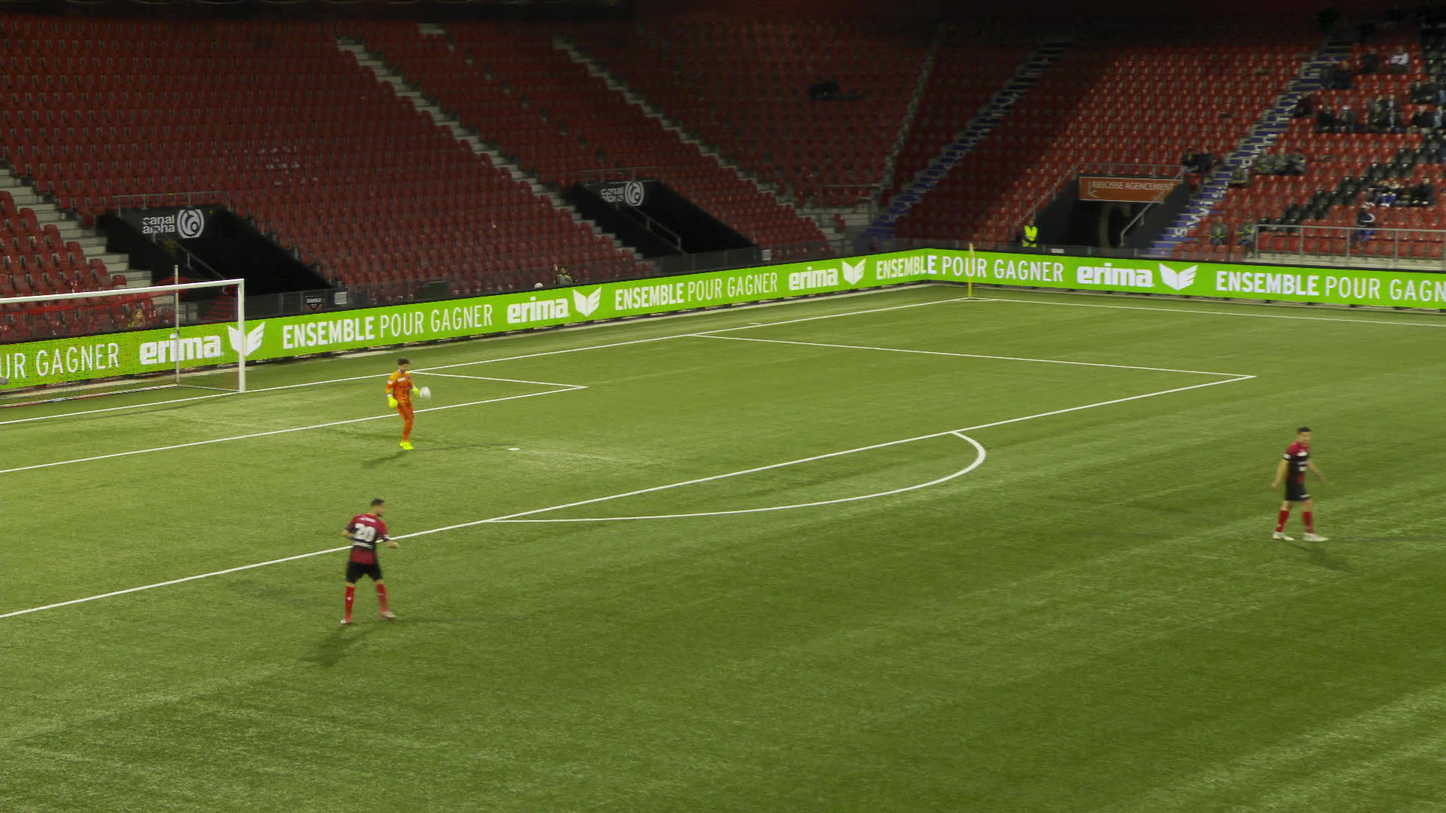ball: (418, 382, 428, 392)
player: (339, 495, 397, 623), (1261, 425, 1319, 542), (386, 358, 423, 449)
